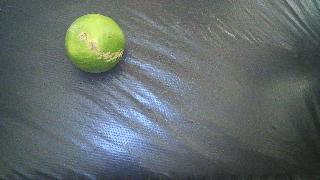DESECHO: (65, 14, 126, 73)
